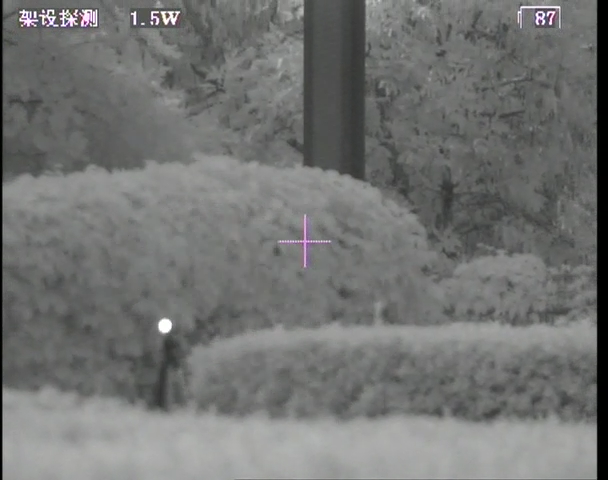my: (156, 317, 174, 336)
